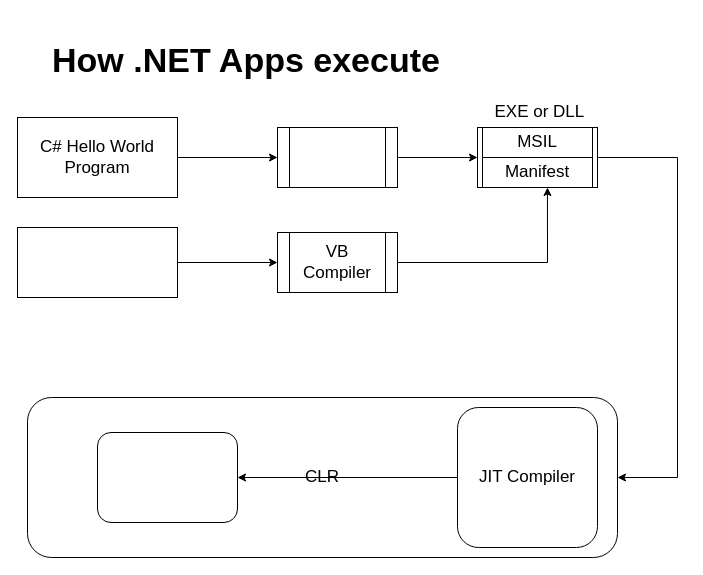
Image size: 703x575. Some labels were removed from this diagram. The centre of each missing label's shape, as x and y in pixels:
"C# Compiler" belongs at [337,157].
"Native code that is optimizsed to run on a specific OS" belongs at [167,477].
"VB Hello World Program" belongs at [97,262].
